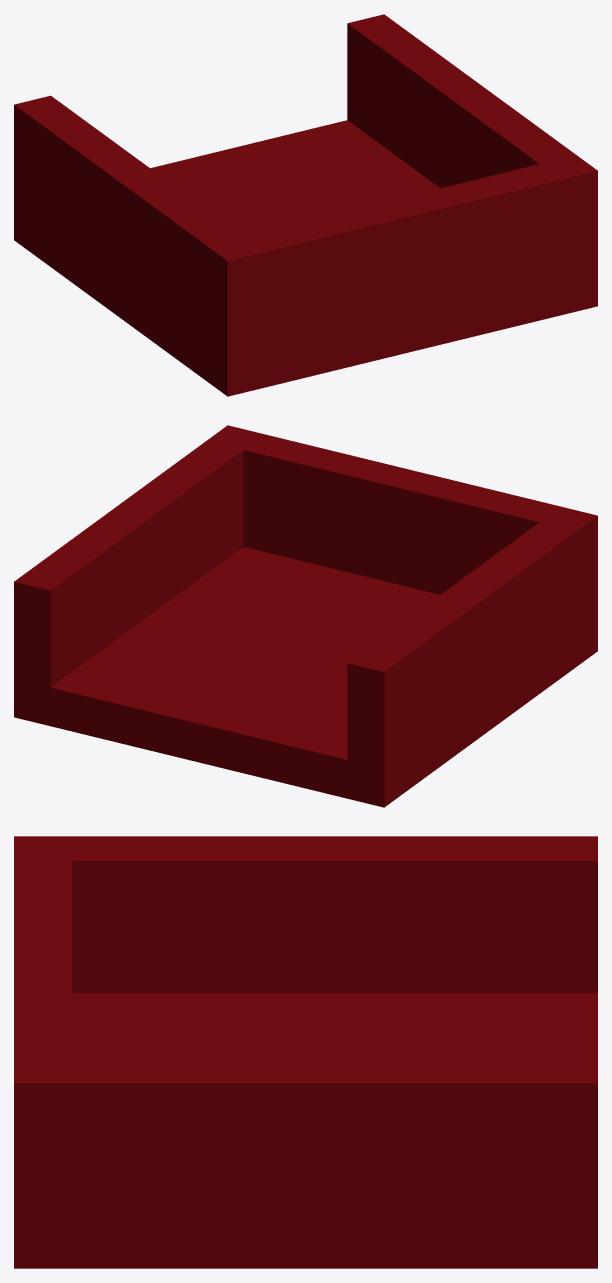
Rendered from RedRoof_3Edges_Small.glb.
3 views of the same model, one above another, from view 1: azimuth 30°, elevation 25°; view 2: azimuth 150°, elevation 25°; view 3: azimuth 270°, elevation 25° (orthographic). The views are drawn at different scales.
Parts seen in each view (by area): view 1: roof_flat_3Edges_small_red; view 2: roof_flat_3Edges_small_red; view 3: roof_flat_3Edges_small_red.
Part boxes in pixels (x1,y1,x2,y2): roof_flat_3Edges_small_red: (14, 14, 597, 396); roof_flat_3Edges_small_red: (14, 425, 597, 807); roof_flat_3Edges_small_red: (14, 836, 597, 1268).
Size of what is drawn, in the model's own units: 2 by 0.7 by 2.
1 material, 1 textured.
